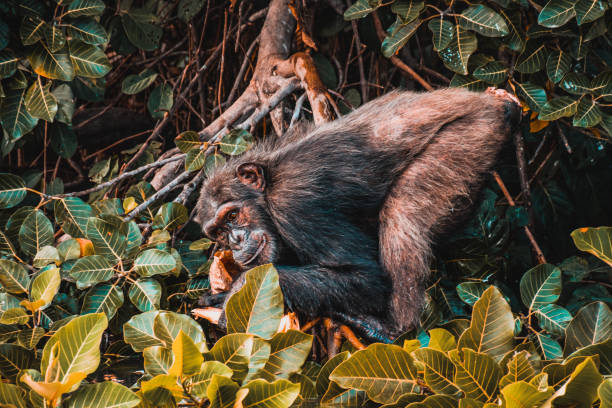chimpanzee: (188, 154, 294, 271)
